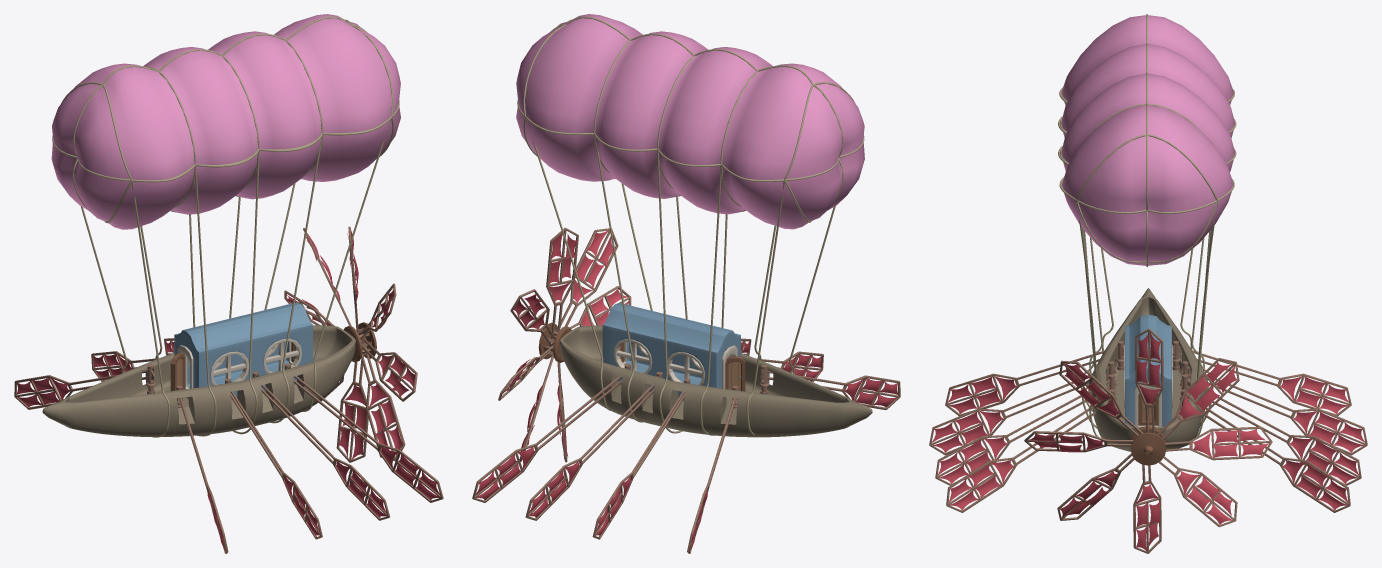
Rendered from flying_ship.glb.
3 views of the same model, side by side, from view 1: azimuth 30°, elevation 25°; view 2: azimuth 150°, elevation 25°; view 3: azimuth 270°, elevation 25° (orthographic). The views are drawn at different scales.
Parts seen in each view (by area): view 1: balloon flying ship_balloon flying ship_0, flying ship_flying ship_0, rope flying ship, cabin flying ship_cabin flying ship_0, paddle flying ship_paddle flying ship_0, window flying ship_window door flying ship_0, paddle flying ship003_paddle flying ship_0, paddle flying ship004_paddle flying ship_0, paddle flying ship009_paddle flying ship_0, paddle flying ship012_sail flying ship_0, paddle flying ship013_paddle flying ship_0, paddle flying ship013_sail flying ship_0 (+9 smaller); view 2: balloon flying ship_balloon flying ship_0, flying ship_flying ship_0, rope flying ship, cabin flying ship_cabin flying ship_0, paddle flying ship006_paddle flying ship_0, window flying ship_window door flying ship_0, paddle flying ship007_paddle flying ship_0, paddle flying ship008_paddle flying ship_0, paddle flying ship005_paddle flying ship_0, paddle flying ship015_sail flying ship_0, paddle flying ship016_paddle flying ship_0, paddle flying ship015_paddle flying ship_0 (+9 smaller); view 3: balloon flying ship_balloon flying ship_0, flying ship_flying ship_0, rope flying ship, cabin flying ship_cabin flying ship_0, paddle flying ship009_paddle flying ship_0, paddle flying ship005_paddle flying ship_0, paddle flying ship003_paddle flying ship_0, paddle flying ship004_paddle flying ship_0, paddle flying ship_paddle flying ship_0, paddle flying ship007_paddle flying ship_0, paddle flying ship008_paddle flying ship_0, paddle flying ship010_sail flying ship_0 (+25 smaller).
Part boxes in pixels (x1,y1,x2,y2): balloon flying ship_balloon flying ship_0: (51, 14, 400, 229); flying ship_flying ship_0: (42, 325, 355, 436); rope flying ship: (52, 16, 399, 437); cabin flying ship_cabin flying ship_0: (174, 302, 312, 397); paddle flying ship_paddle flying ship_0: (284, 363, 443, 502); window flying ship_window door flying ship_0: (188, 338, 301, 385); paddle flying ship003_paddle flying ship_0: (252, 371, 389, 520); paddle flying ship004_paddle flying ship_0: (225, 378, 322, 539); paddle flying ship009_paddle flying ship_0: (14, 364, 155, 409); paddle flying ship012_sail flying ship_0: (338, 385, 366, 459); paddle flying ship013_paddle flying ship_0: (361, 346, 405, 461); paddle flying ship013_sail flying ship_0: (369, 384, 402, 456); balloon flying ship_balloon flying ship_0: (516, 14, 864, 229); flying ship_flying ship_0: (559, 325, 872, 437); rope flying ship: (517, 16, 864, 435); cabin flying ship_cabin flying ship_0: (602, 303, 740, 397); paddle flying ship006_paddle flying ship_0: (472, 364, 630, 502); window flying ship_window door flying ship_0: (613, 339, 704, 385); paddle flying ship007_paddle flying ship_0: (525, 372, 662, 520); paddle flying ship008_paddle flying ship_0: (592, 378, 690, 539); paddle flying ship005_paddle flying ship_0: (759, 364, 900, 409); paddle flying ship015_sail flying ship_0: (573, 230, 616, 302); paddle flying ship016_paddle flying ship_0: (546, 227, 578, 338); paddle flying ship015_paddle flying ship_0: (555, 228, 618, 331); balloon flying ship_balloon flying ship_0: (1061, 15, 1234, 265); flying ship_flying ship_0: (1088, 288, 1208, 451); rope flying ship: (1058, 14, 1236, 442); cabin flying ship_cabin flying ship_0: (1125, 314, 1171, 426); paddle flying ship009_paddle flying ship_0: (1172, 341, 1351, 416); paddle flying ship005_paddle flying ship_0: (945, 341, 1123, 416); paddle flying ship003_paddle flying ship_0: (935, 374, 1116, 485); paddle flying ship004_paddle flying ship_0: (929, 361, 1116, 455); paddle flying ship_paddle flying ship_0: (946, 389, 1117, 512); paddle flying ship007_paddle flying ship_0: (1180, 374, 1361, 485); paddle flying ship008_paddle flying ship_0: (1180, 361, 1367, 455); paddle flying ship010_sail flying ship_0: (1192, 429, 1269, 457).
Size of the model in its own units: 0.8093 by 1.02 by 0.9392.
